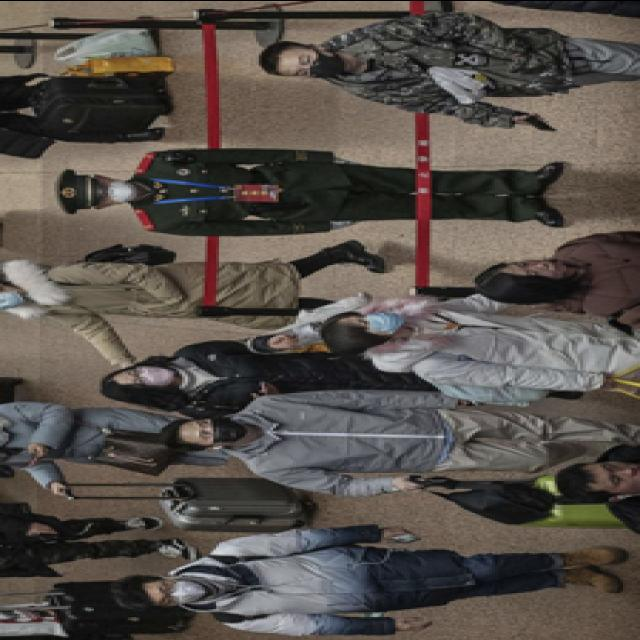with_mask: (151, 576, 202, 610), (287, 50, 347, 78), (350, 312, 404, 341), (190, 416, 244, 445), (91, 180, 142, 207), (126, 364, 176, 390)
without_mask: (512, 258, 566, 282), (597, 460, 637, 490)
